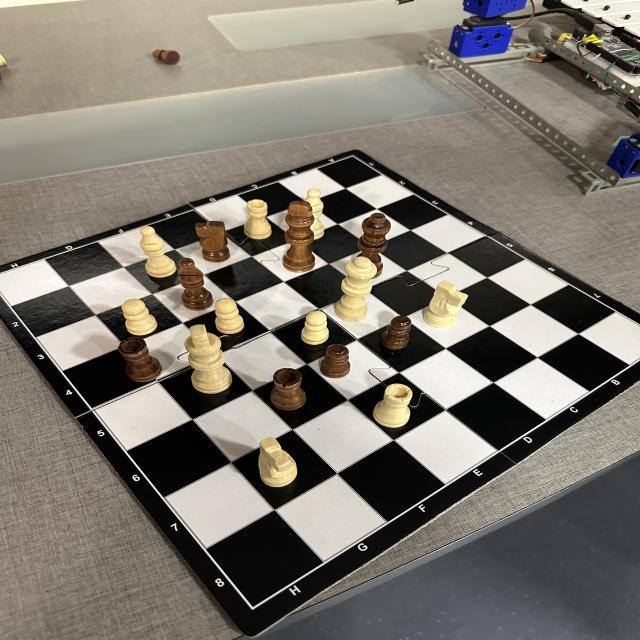Black-Bishop: (178, 258, 214, 310)
Black-King: (282, 200, 316, 272)
Black-Knight: (195, 221, 231, 263)
Black-Pawn: (381, 315, 412, 350), (320, 344, 350, 378)
Black-Queen: (358, 212, 391, 256)
Black-Rook: (118, 337, 162, 383), (270, 368, 307, 411)
White-Bishop: (140, 226, 177, 278), (307, 188, 324, 240)
White-King: (184, 324, 233, 394)
White-Knight: (423, 280, 469, 328), (258, 437, 298, 488)
White-Pawn: (122, 298, 158, 336), (214, 298, 244, 334), (301, 311, 329, 345)
White-Queen: (335, 256, 377, 322)
White-Rook: (372, 383, 413, 428), (244, 199, 272, 240)
